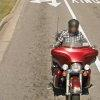Motorcycle: (45, 21, 100, 100)
